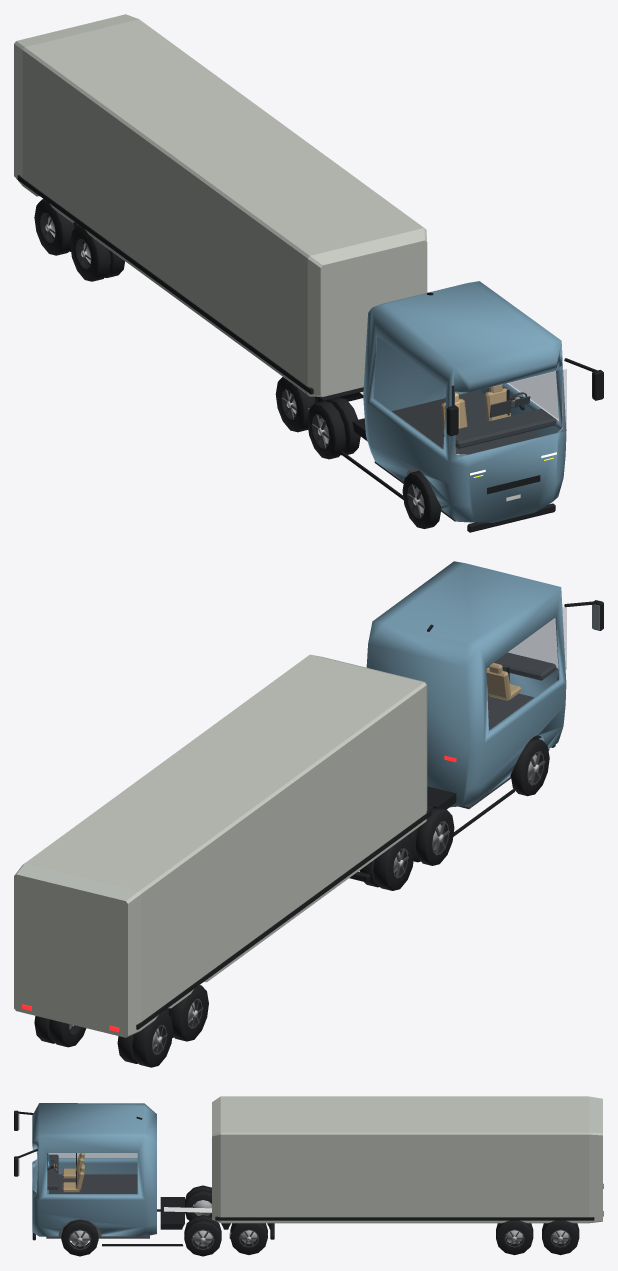
The model's file is fleet-semi.glb.
3 views of the same model, one above another, from view 1: azimuth 30°, elevation 25°; view 2: azimuth 150°, elevation 25°; view 3: azimuth 270°, elevation 25° (orthographic). The views are drawn at different scales.
Visible parts, largest first — view 1: TrailerShell, Body, Surface_CarRoot_Glass, Interior_CarRoot_InteriorDark, Surface_CarRoot_BlackTrim, Surface_WheelRearR_Tyre, TrailerRail, TrailerWheel-1880_Tyre, TrailerWheel-11010_Tyre, WheelFrontR_Tyre, Surface_WheelRear2R_Tyre, Interior_CarRoot_InteriorLeather; view 2: TrailerShell, Body, Surface_CarRoot_Glass, Interior_CarRoot_InteriorDark, TrailerRail, Surface_WheelRearR_Tyre, Surface_WheelRear2R_Tyre, TrailerWheel-11010_Tyre, TrailerWheel-1880_Tyre, WheelFrontR_Tyre, Surface_CarRoot_BlackTrim, Interior_CarRoot_InteriorLeather (+1 smaller); view 3: TrailerShell, Body, Surface_CarRoot_Glass, Interior_CarRoot_InteriorDark, TrailerRail.001, Surface_CarRoot_BlackTrim, Surface_WheelRearL_Tyre, TrailerWheel11010_Tyre, TrailerWheel1880_Tyre, Surface_WheelRear2L_Tyre, WheelFrontL_Tyre, Surface_WheelRearR_Tyre (+2 smaller).
Boxes of the visible parts, bbox=[...] form: TrailerShell: bbox=[14, 14, 427, 396]; Body: bbox=[363, 281, 566, 522]; Surface_CarRoot_Glass: bbox=[372, 336, 566, 456]; Interior_CarRoot_InteriorDark: bbox=[374, 390, 556, 521]; Surface_CarRoot_BlackTrim: bbox=[317, 292, 603, 532]; Surface_WheelRearR_Tyre: bbox=[307, 397, 360, 459]; TrailerRail: bbox=[17, 175, 313, 394]; TrailerWheel-1880_Tyre: bbox=[70, 225, 110, 281]; TrailerWheel-11010_Tyre: bbox=[34, 199, 74, 255]; WheelFrontR_Tyre: bbox=[402, 470, 441, 528]; Surface_WheelRear2R_Tyre: bbox=[275, 377, 317, 432]; Interior_CarRoot_InteriorLeather: bbox=[441, 384, 510, 430]; TrailerShell: bbox=[14, 654, 427, 1037]; Body: bbox=[366, 561, 566, 807]; Surface_CarRoot_Glass: bbox=[487, 607, 566, 729]; Interior_CarRoot_InteriorDark: bbox=[459, 652, 556, 808]; TrailerRail: bbox=[136, 810, 431, 1029]; Surface_WheelRearR_Tyre: bbox=[408, 805, 454, 865]; Surface_WheelRear2R_Tyre: bbox=[359, 835, 414, 890]; TrailerWheel-11010_Tyre: bbox=[132, 1011, 173, 1067]; TrailerWheel-1880_Tyre: bbox=[168, 985, 208, 1041]; WheelFrontR_Tyre: bbox=[510, 738, 549, 796]; Surface_CarRoot_BlackTrim: bbox=[349, 600, 603, 882]; Interior_CarRoot_InteriorLeather: bbox=[486, 663, 521, 700]; TrailerShell: bbox=[212, 1096, 602, 1223]; Body: bbox=[32, 1103, 156, 1236]; Surface_CarRoot_Glass: bbox=[47, 1153, 137, 1194]; Interior_CarRoot_InteriorDark: bbox=[46, 1153, 149, 1238]; TrailerRail.001: bbox=[215, 1216, 594, 1220]; Surface_CarRoot_BlackTrim: bbox=[14, 1110, 274, 1246]; Surface_WheelRearL_Tyre: bbox=[184, 1215, 221, 1256]; TrailerWheel11010_Tyre: bbox=[542, 1220, 579, 1255]; TrailerWheel1880_Tyre: bbox=[496, 1220, 533, 1255]; Surface_WheelRear2L_Tyre: bbox=[230, 1223, 267, 1254]; WheelFrontL_Tyre: bbox=[61, 1219, 98, 1256]; Surface_WheelRearR_Tyre: bbox=[185, 1185, 211, 1220].
Size of the model in its own units: 3.26 by 3.85 by 16.67.
